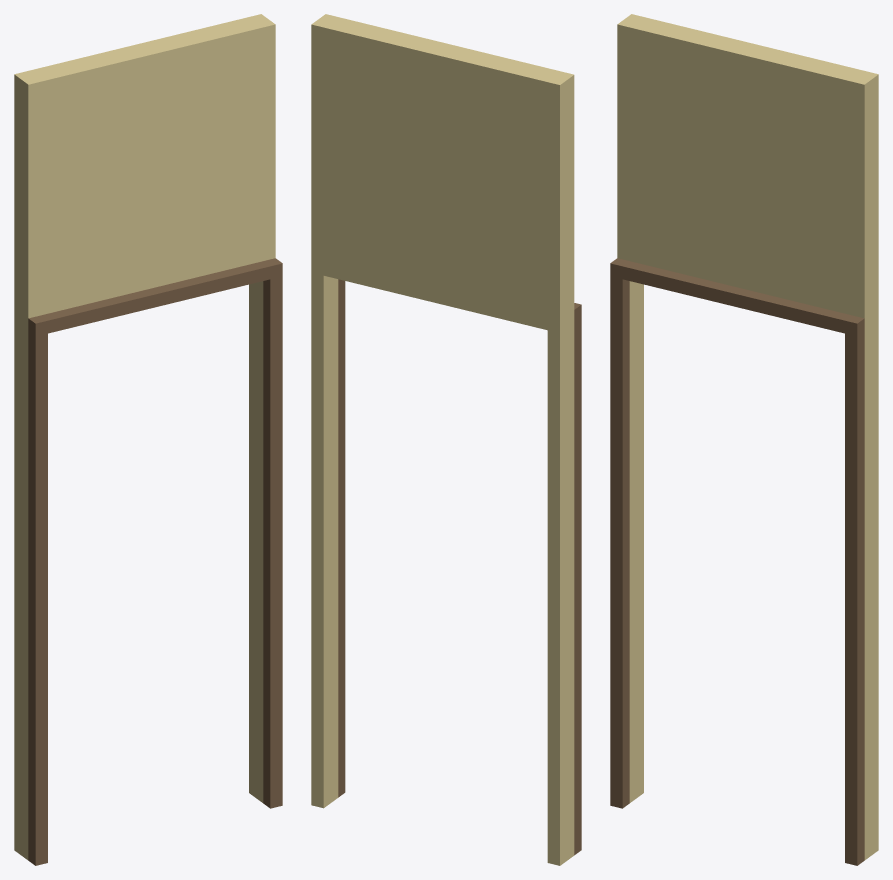
Rendered from Mesh_DoorHole_09.fbx.
The picture shows the model from 3 angles, left to right: view 1: azimuth 30°, elevation 25°; view 2: azimuth 150°, elevation 25°; view 3: azimuth 330°, elevation 25°; orthographic projection.
Parts seen in each view (by area): view 1: Mesh_DoorHole_09; view 2: Mesh_DoorHole_09; view 3: Mesh_DoorHole_09.
Part boxes in pixels (<box>): Mesh_DoorHole_09: <box>14,14,282,865</box>; Mesh_DoorHole_09: <box>311,14,581,865</box>; Mesh_DoorHole_09: <box>610,14,878,865</box>.
Size of the model in its own units: 1 by 3 by 0.15.
